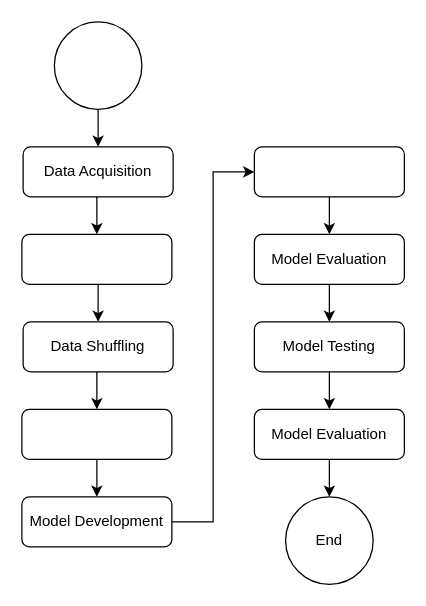
This 426x606 diagram has some shape labels left out. The centre of each missing label's shape, as x and y in pixels:
"Feature Extraction" belongs at pixel 96 258.
"Model Training" belongs at pixel 328 171.
"Start" belongs at pixel 97 65.
"Train Test Split" belongs at pixel 96 433.
